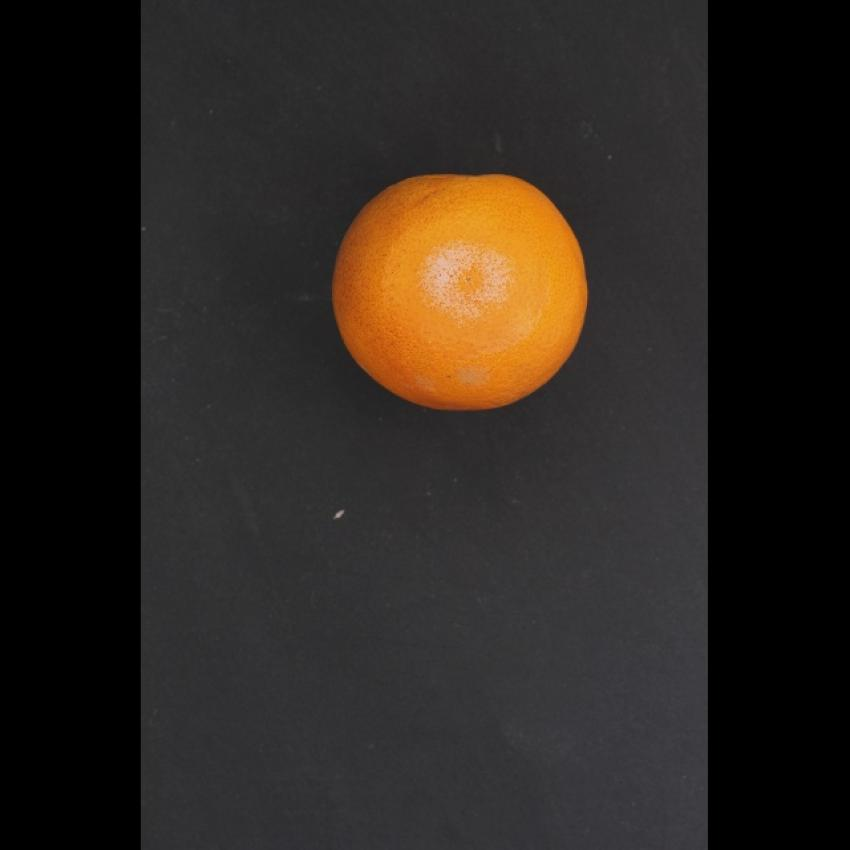Mal estado: (321, 162, 601, 420)
